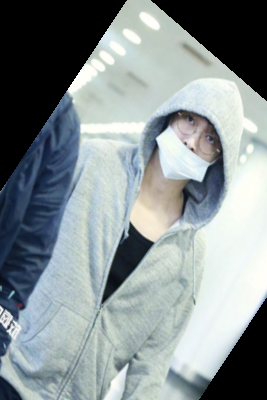mask_weared_incorrect: (142, 62, 263, 197)
